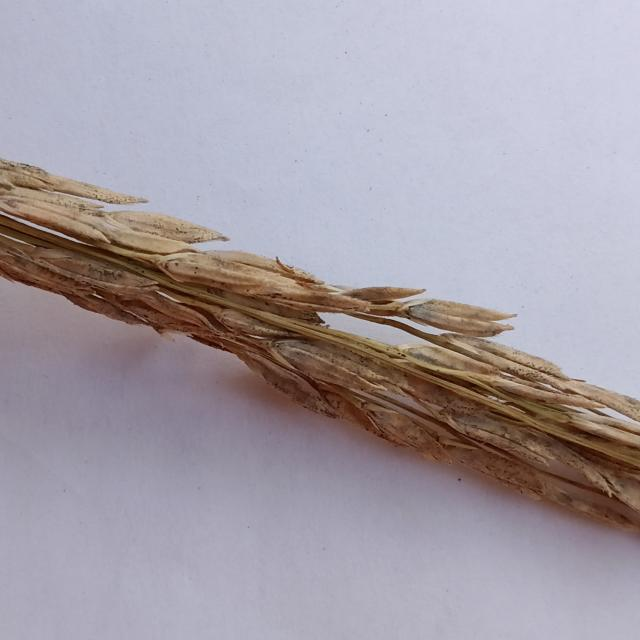Neck_Blast: (0, 144, 640, 543)
